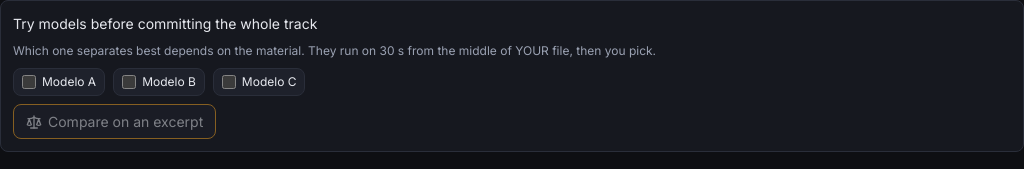
ModelComparison › no deja comparar hasta que hay dos elegidos
Expected: the button "Compare on an excerpt" is disabled, [13,104,216,139]
What coordinates should you click on to do the following:
click the checkbox labelled "Modelo A"
I would click on:
 (29, 82)
Its box is [22,75,36,89].
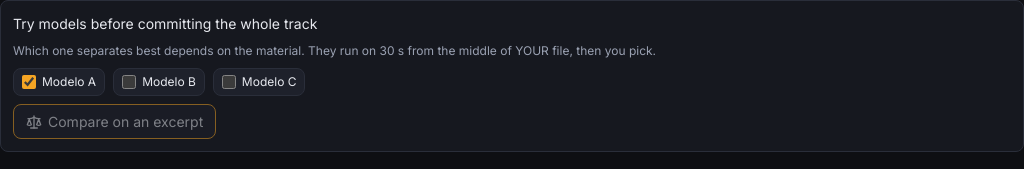
Expected: the button "Compare on an excerpt" is disabled, [13,104,216,139]
What coordinates should you click on to do the following:
click the checkbox labelled "Modelo B"
I would click on:
 (129, 82)
Its box is [122,75,136,89].
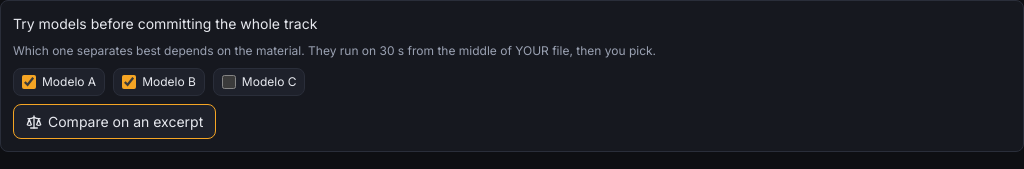
Result: the button "Compare on an excerpt" is enabled at [13,104,216,139]
